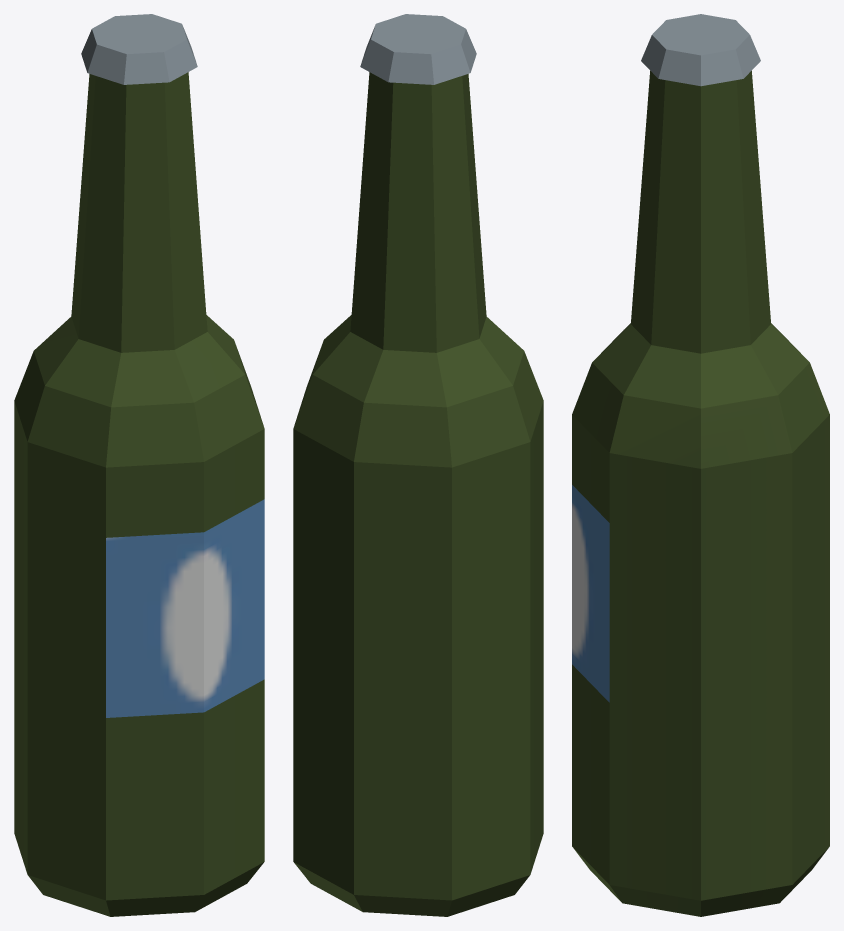
The model's file is SM_Prop_Bar_Bottle_02.obj.
3 views of the same model, side by side, from view 1: azimuth 30°, elevation 25°; view 2: azimuth 150°, elevation 25°; view 3: azimuth 270°, elevation 25° (orthographic).
Parts seen in each view (by area): view 1: SM_Prop_Bar_Bottle_02_0; view 2: SM_Prop_Bar_Bottle_02_0; view 3: SM_Prop_Bar_Bottle_02_0.
Part boxes in pixels (left/top/right/bottom): SM_Prop_Bar_Bottle_02_0: left=14, top=14, right=264, bottom=916; SM_Prop_Bar_Bottle_02_0: left=293, top=14, right=543, bottom=916; SM_Prop_Bar_Bottle_02_0: left=572, top=14, right=829, bottom=916.
Bounding box in the file's own units: 0.0938 × 0.3354 × 0.0939.
1 material, 1 textured.
